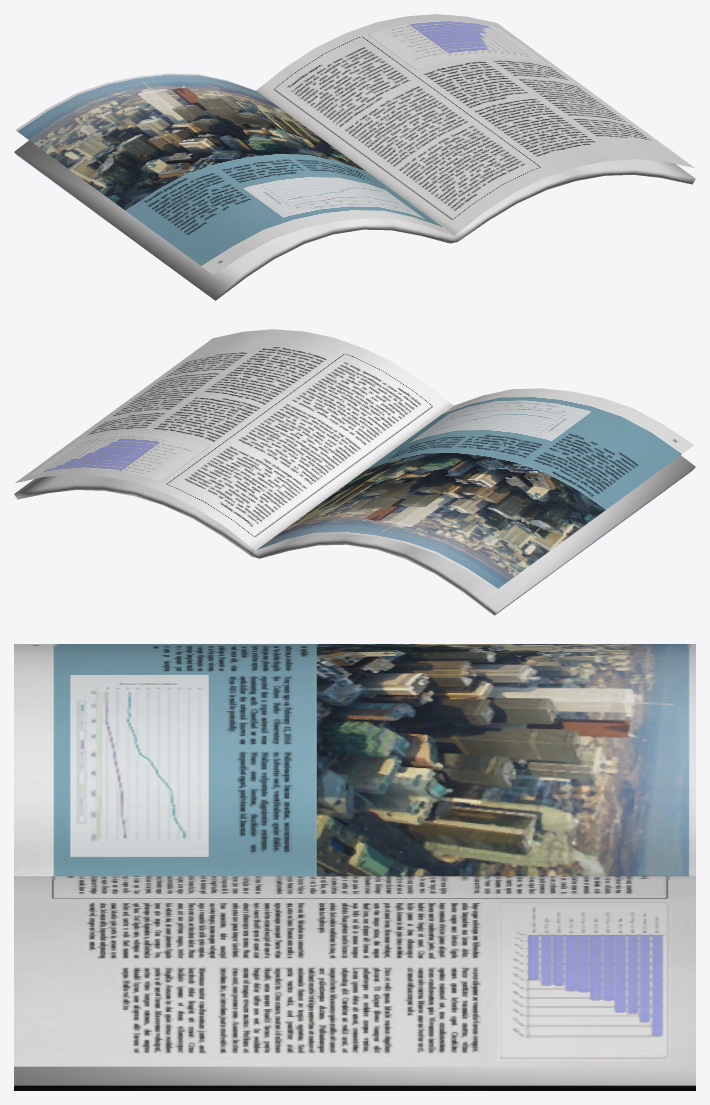
File: magazine_household_open.dae
3 renders of one model, top to bottom at view 1: azimuth 30°, elevation 25°; view 2: azimuth 150°, elevation 25°; view 3: azimuth 270°, elevation 25°, orthographic. The views are drawn at different scales.
Visible parts, largest first — view 1: magazine_tech_open; view 2: magazine_tech_open; view 3: magazine_tech_open.
Boxes of the visible parts, x1=… form: magazine_tech_open: x1=14, y1=14, x2=695, y2=300; magazine_tech_open: x1=14, y1=329, x2=695, y2=615; magazine_tech_open: x1=14, y1=644, x2=695, y2=1090.
Size of the model in its own units: 39.45 by 3.98 by 28.
